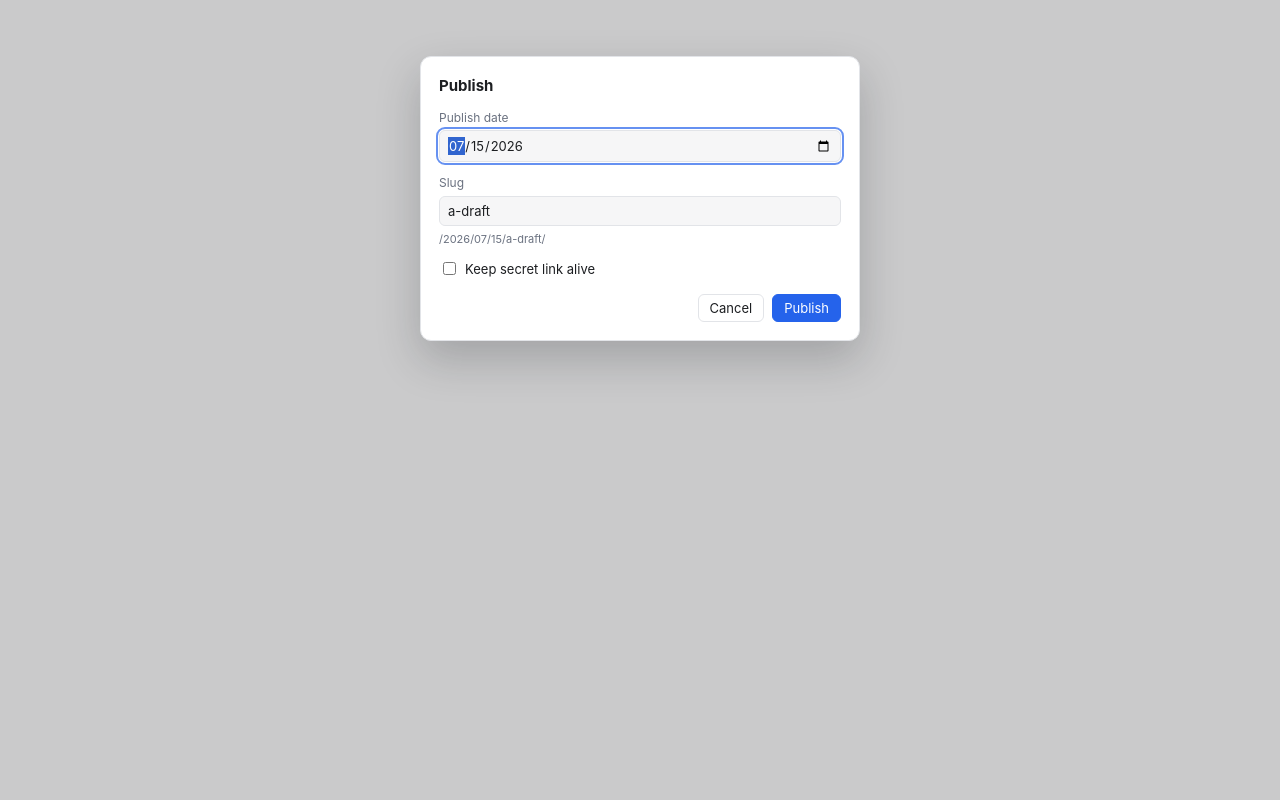
Test case: PublishDialog — live URL preview › returns to the date/slug preview when the checkbox is unchecked again
This screenshot has width=1280, height=800.
Click the checkbox labelled "Keep secret link alive".
click(450, 269)  # box [443,262,456,276]
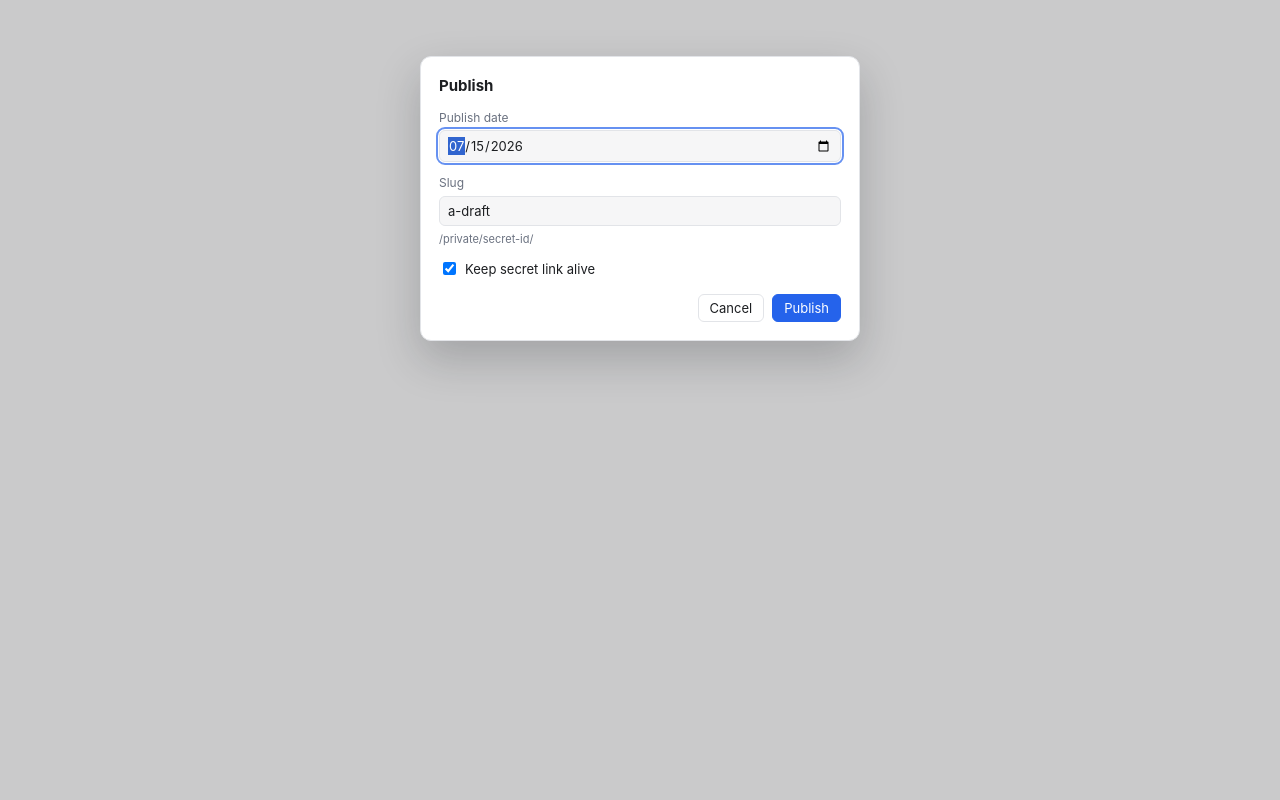
Click the checkbox labelled "Keep secret link alive".
click(450, 269)  # box [443,262,456,276]
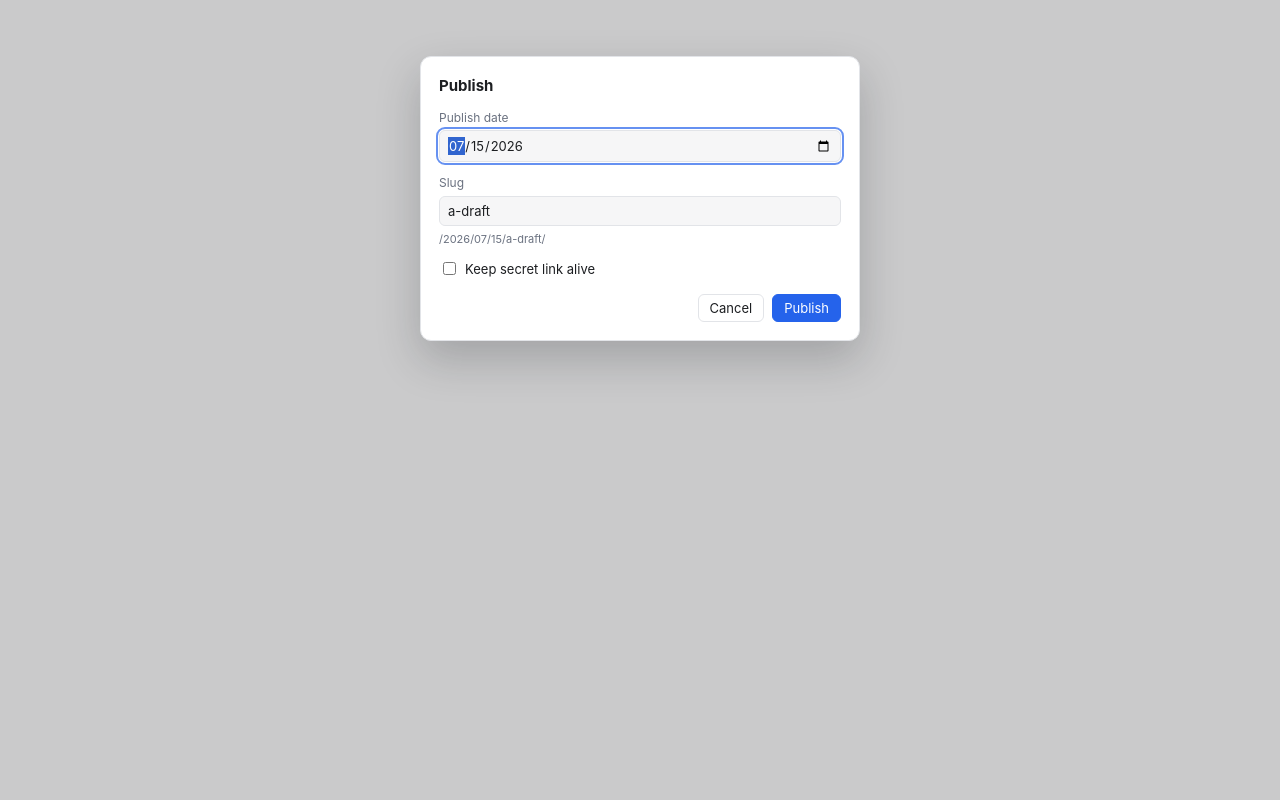
Now the text "/2026/07/15/a-draft/" is shown, box [439,232,546,246]
